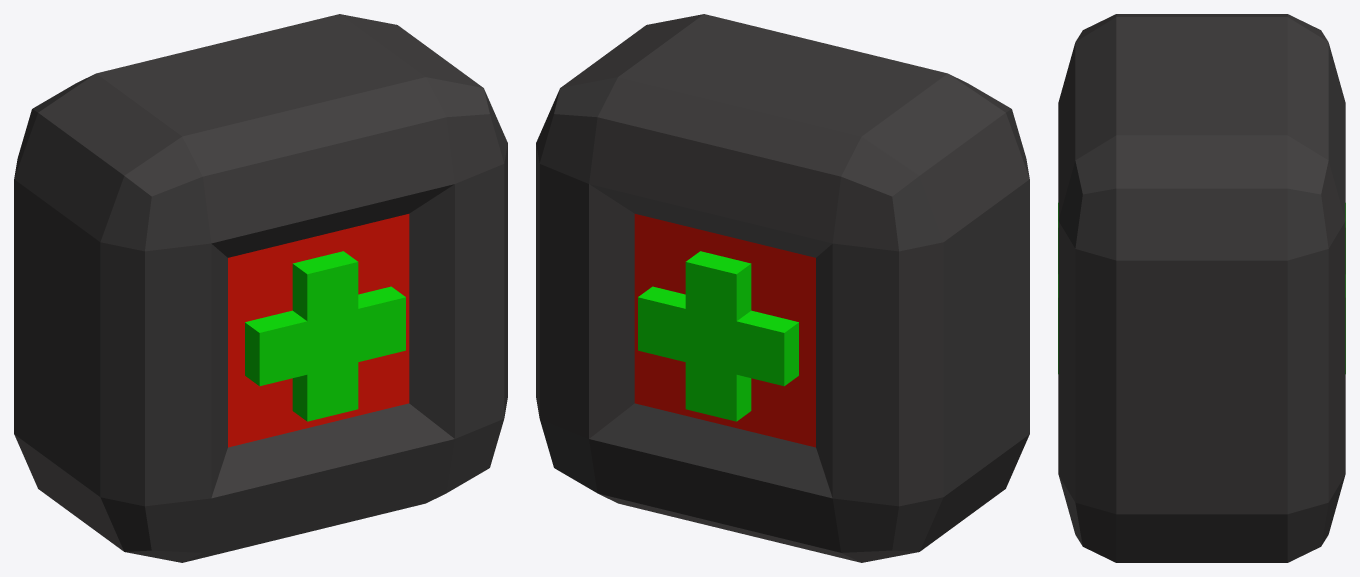
Rendered from Heal.fbx.
3 views of the same model, side by side, from view 1: azimuth 30°, elevation 25°; view 2: azimuth 150°, elevation 25°; view 3: azimuth 270°, elevation 25° (orthographic).
Visible parts, largest first — view 1: Heal, Krestik; view 2: Heal, Krestik; view 3: Heal.
Boxes of the visible parts, <box> form: Heal: <box>14,14,507,562</box>; Krestik: <box>245,251,405,421</box>; Heal: <box>536,14,1029,562</box>; Krestik: <box>638,251,798,421</box>; Heal: <box>1058,14,1345,562</box>.
Bounding box in the file's own units: 38 × 38 × 23.35.
